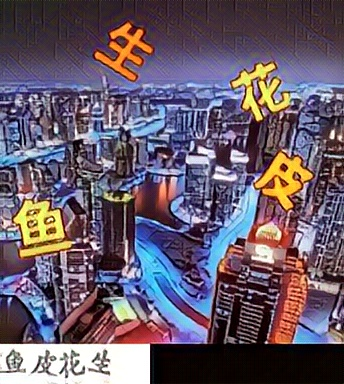BBA8: (229, 58, 291, 122)
C6A4: (252, 148, 314, 212)
C9FA: (92, 18, 154, 82)
D3E3: (11, 192, 73, 256)
